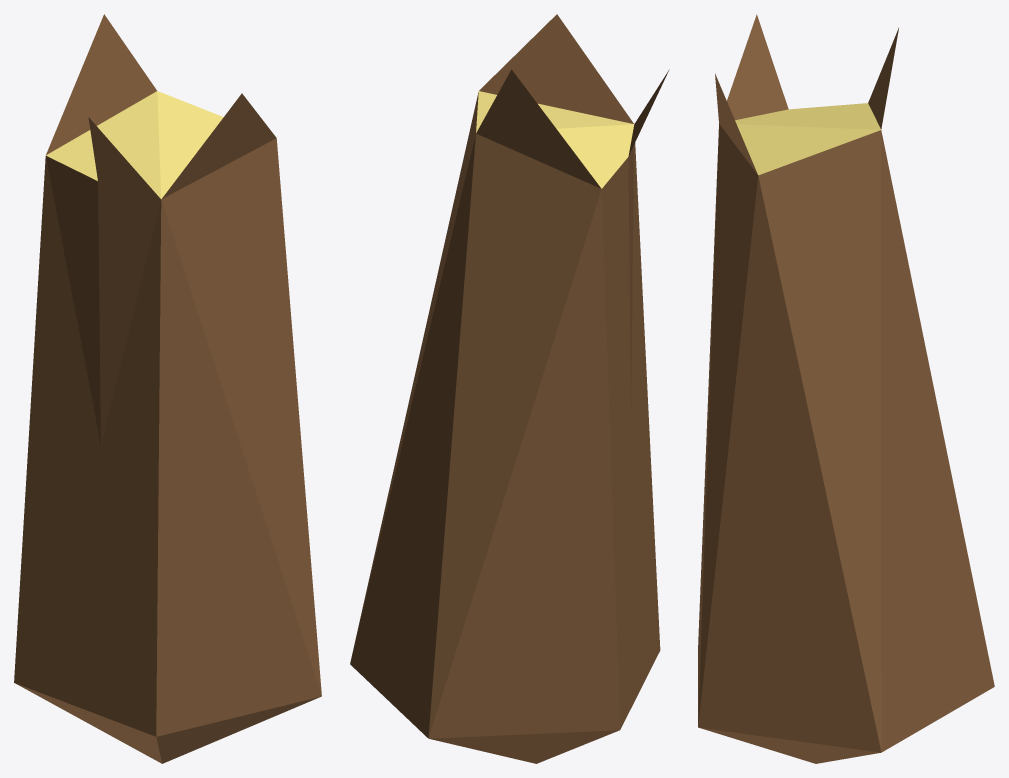
Rendered from stump.glb.
3 renders of one model, left to right at view 1: azimuth 30°, elevation 25°; view 2: azimuth 150°, elevation 25°; view 3: azimuth 270°, elevation 25°, orthographic.
Parts seen in each view (by area): view 1: Circle; view 2: Circle; view 3: Circle.
Part boxes in pixels (x1,y1,x2,y2): Circle: (14,14,321,763); Circle: (350,14,669,763); Circle: (698,14,994,763).
Size of the model in its own units: 0.7856 by 2.03 by 0.7471.
